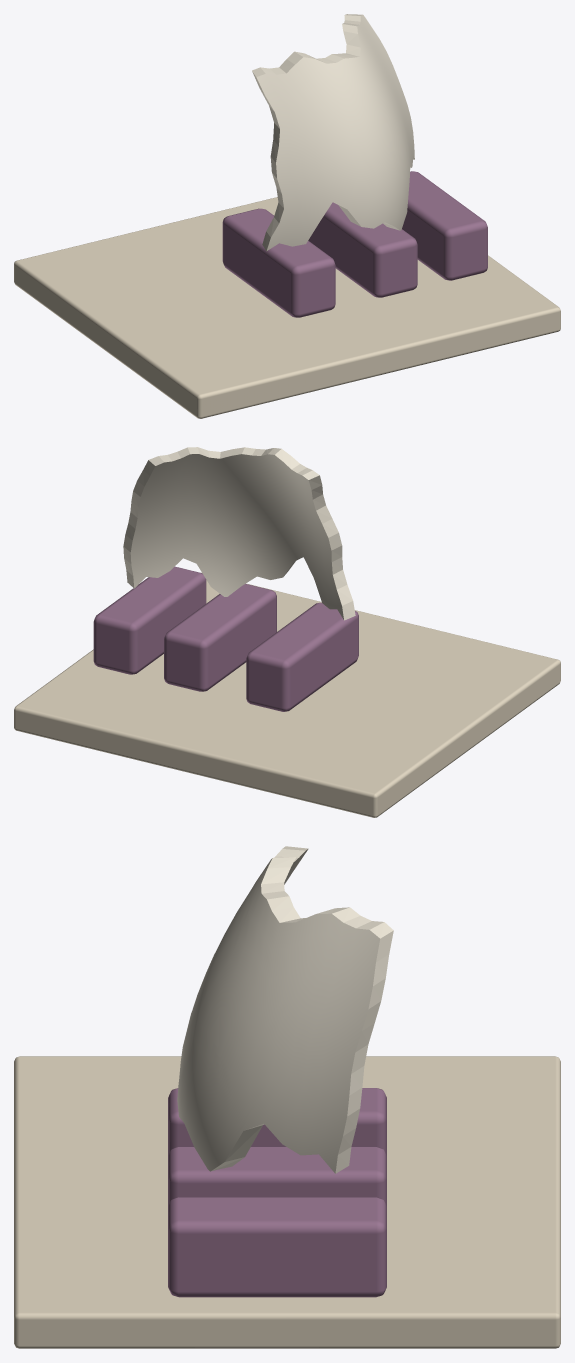
The model's file is museum-conservation-and-art-restoration-museum-conserv-5e156256__31910.glb.
3 views of the same model, one above another, from view 1: azimuth 30°, elevation 25°; view 2: azimuth 150°, elevation 25°; view 3: azimuth 270°, elevation 25° (orthographic). The views are drawn at different scales.
Visible parts, largest first — view 1: museum-conservation-and-art-restoration-vessel-fragment-fitt (×3); view 2: museum-conservation-and-art-restoration-vessel-fragment-fitt (×3); view 3: museum-conservation-and-art-restoration-vessel-fragment-fitt (×3).
Part boxes in pixels (x1,y1,x2,y2): museum-conservation-and-art-restoration-vessel-fragment-fitt (×3): [14, 14, 560, 418]; museum-conservation-and-art-restoration-vessel-fragment-fitt (×3): [14, 447, 560, 817]; museum-conservation-and-art-restoration-vessel-fragment-fitt (×3): [14, 846, 560, 1348].
Bounding box in the file's own units: 0.62 × 0.4111 × 0.55.
